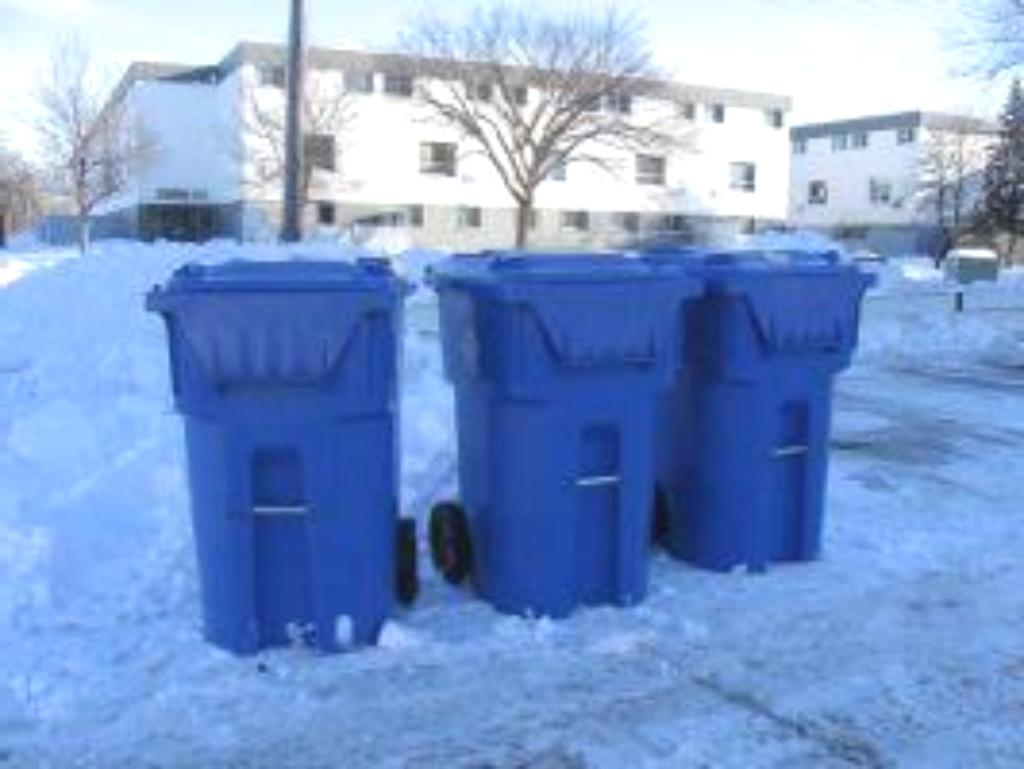dustbin: (146, 248, 412, 672), (417, 245, 695, 647), (672, 242, 865, 589)
